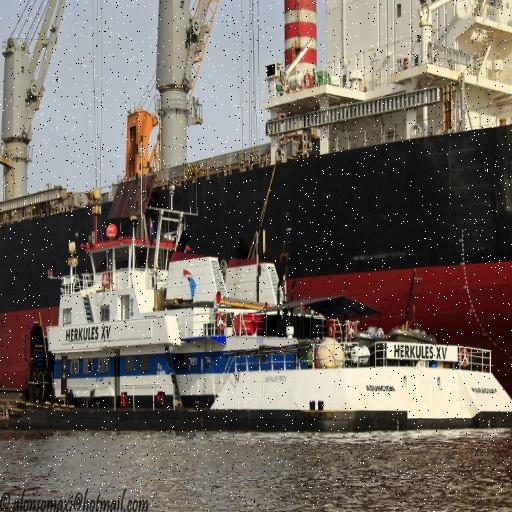tugboat: (1, 200, 512, 443)
